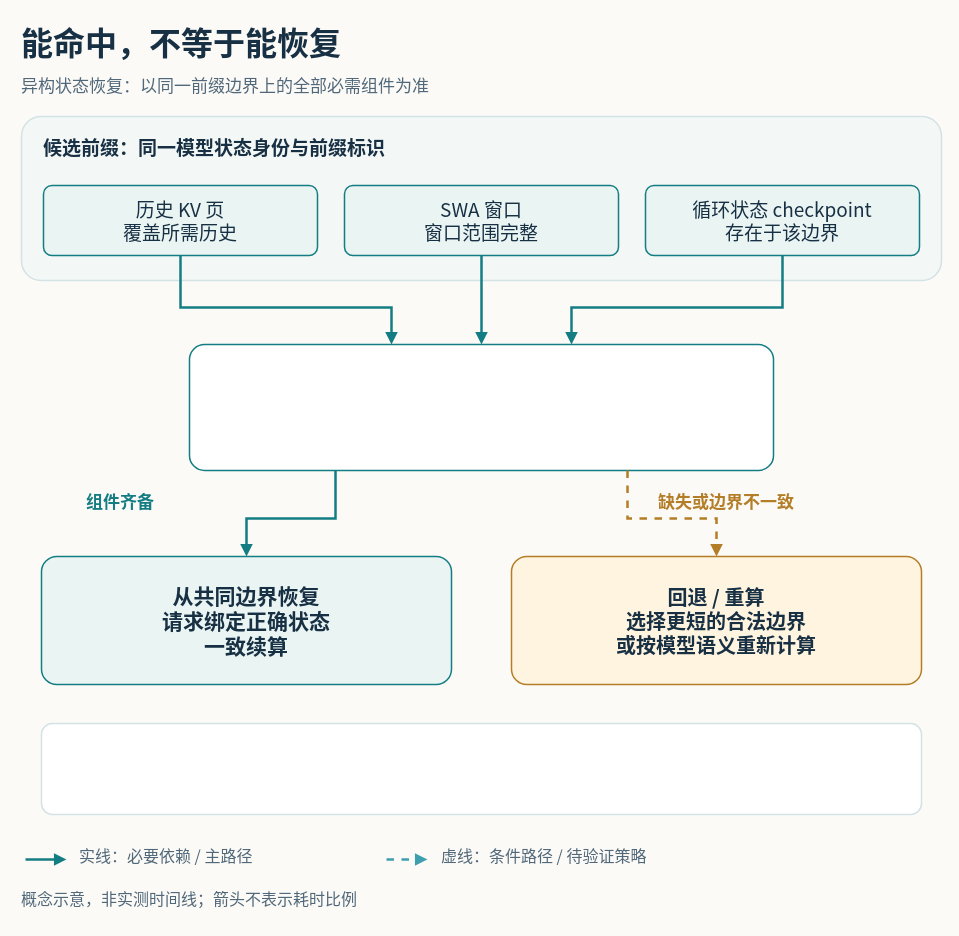
The diagram is 959 pixels wide and 936 high, and some of its shapes have lost their labels. The centre of each missing label's shape, as x and y in pixels:
"KV 页命中长度 ≠ 可恢复前缀长度 循环状态不能像历史 KV 页一样任意截短" goes at [481,768].
"求可恢复边界的交集 同一前缀身份 · 同一边界 · 全部必需组件 KV / 窗口 / checkpoint 同时有效" goes at [481,407].
